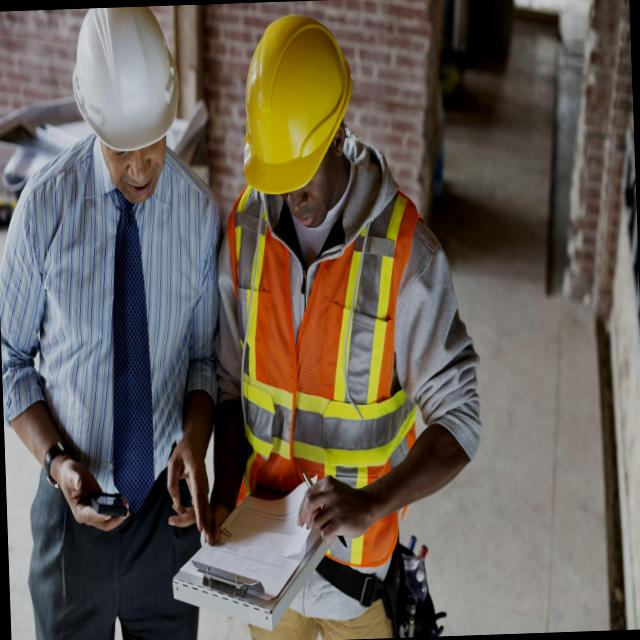helmet: (226, 4, 352, 195), (67, 5, 186, 158)
no-vest: (19, 186, 218, 482)
vest: (226, 206, 424, 498)
